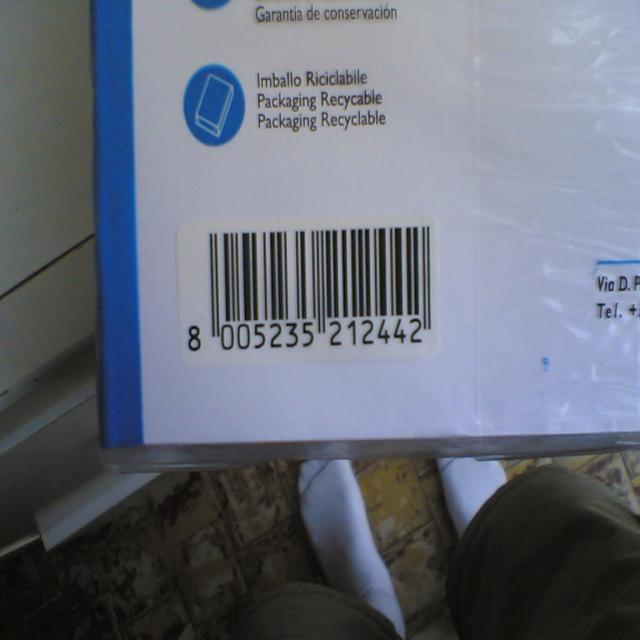barcode: (176, 213, 439, 366)
